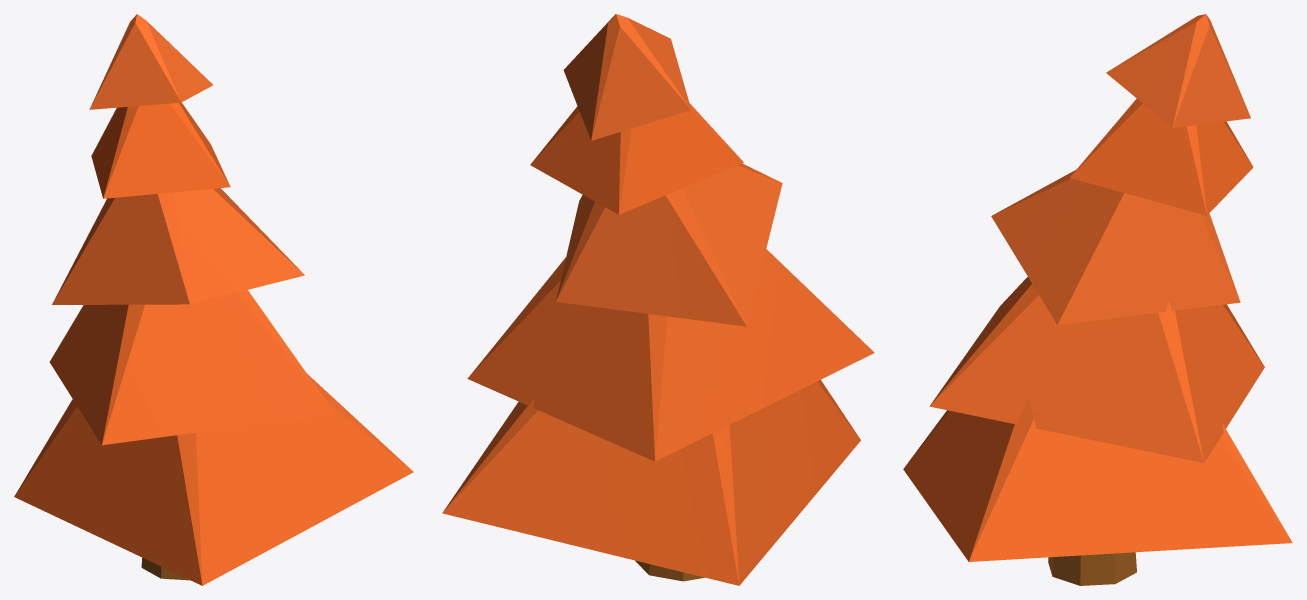
File: tree_3_orange.fbx
3 renders of one model, left to right at view 1: azimuth 30°, elevation 25°; view 2: azimuth 150°, elevation 25°; view 3: azimuth 270°, elevation 25°, orthographic. The views are drawn at different scales.
Parts seen in each view (by area): view 1: tree_3_orange; view 2: tree_3_orange; view 3: tree_3_orange.
Boxes of the visible parts, x1,y1,x2,y2 form: tree_3_orange: [14, 14, 413, 585]; tree_3_orange: [442, 14, 874, 585]; tree_3_orange: [903, 14, 1292, 585].
Size of the model in its own units: 373 by 611 by 387.
